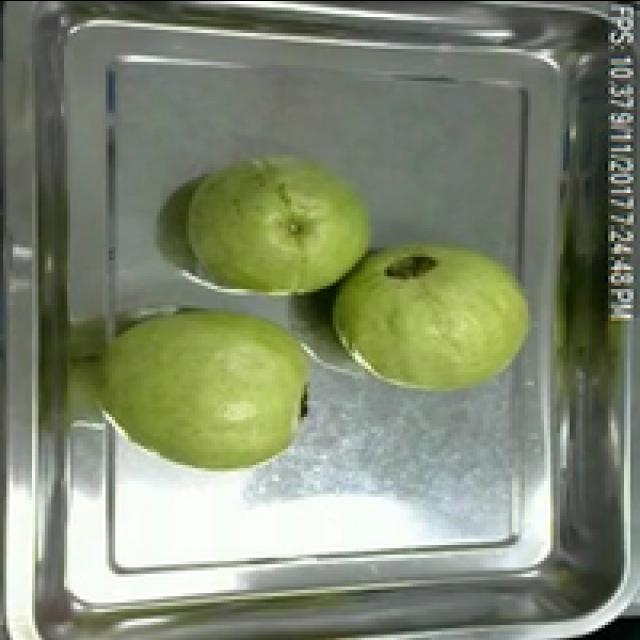Fruit: (93, 285, 323, 480), (320, 227, 541, 403), (176, 132, 384, 314)
